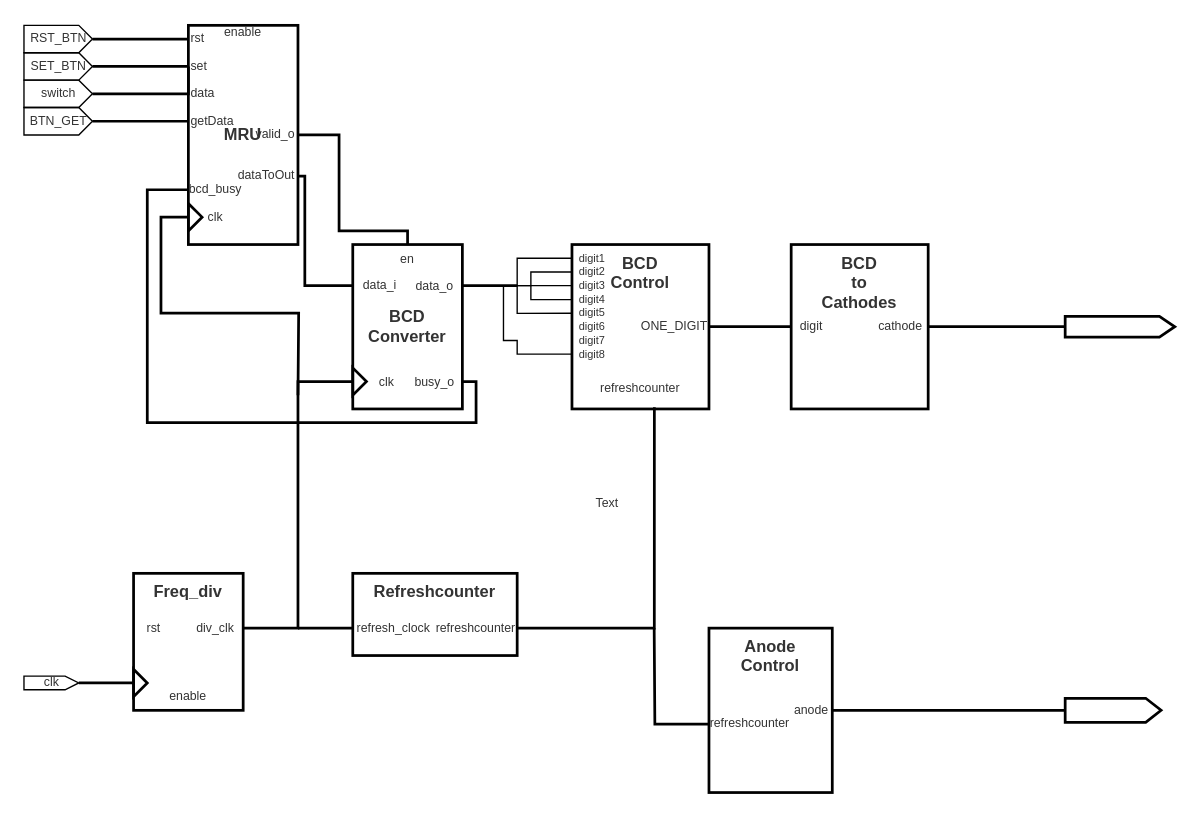
Image size: 1200x817. Some labels were removed from this diagram. The centre of each missing label's shape, as x and y in pixels:
anode[7:0]: [1112,709]
cathode[7:0]: [1119,326]
